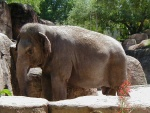elephant: (15, 16, 135, 105)
